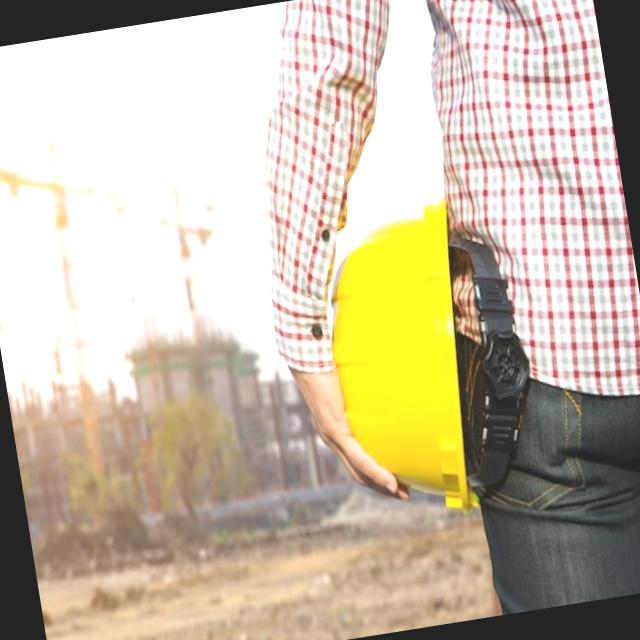helmet: (299, 205, 492, 498)
